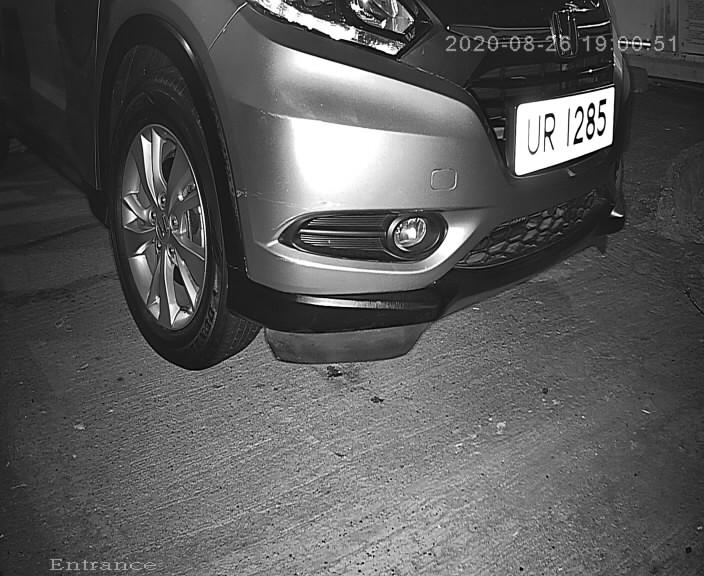Car: (82, 16, 664, 397)
License Plate: (503, 78, 623, 183)
